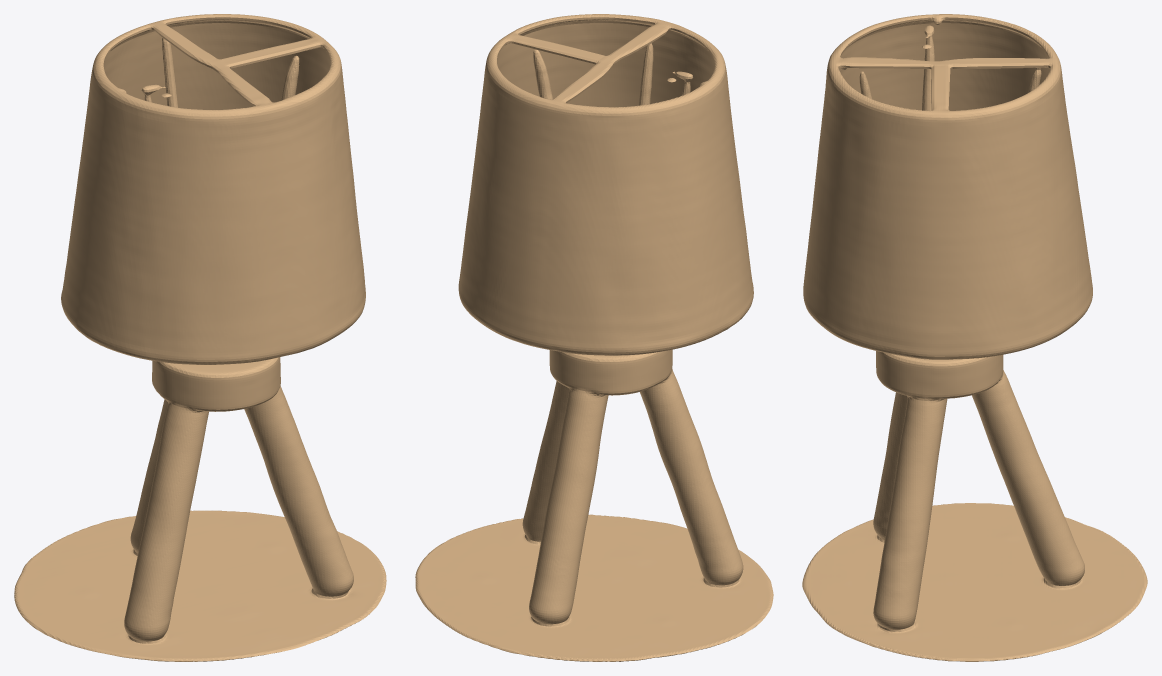
The model's file is 目标公寓_圆润台灯_Modly低清试件.fbx.
3 renders of one model, left to right at view 1: azimuth 30°, elevation 25°; view 2: azimuth 150°, elevation 25°; view 3: azimuth 270°, elevation 25°, orthographic. The views are drawn at different scales.
Parts seen in each view (by area): view 1: geometry_0; view 2: geometry_0; view 3: geometry_0.
Boxes of the visible parts, x1,y1,x2,y2 form: geometry_0: (14,14,386,661); geometry_0: (415,14,773,661); geometry_0: (802,14,1147,661).
Size of the model in its own units: 129 by 200 by 119.
